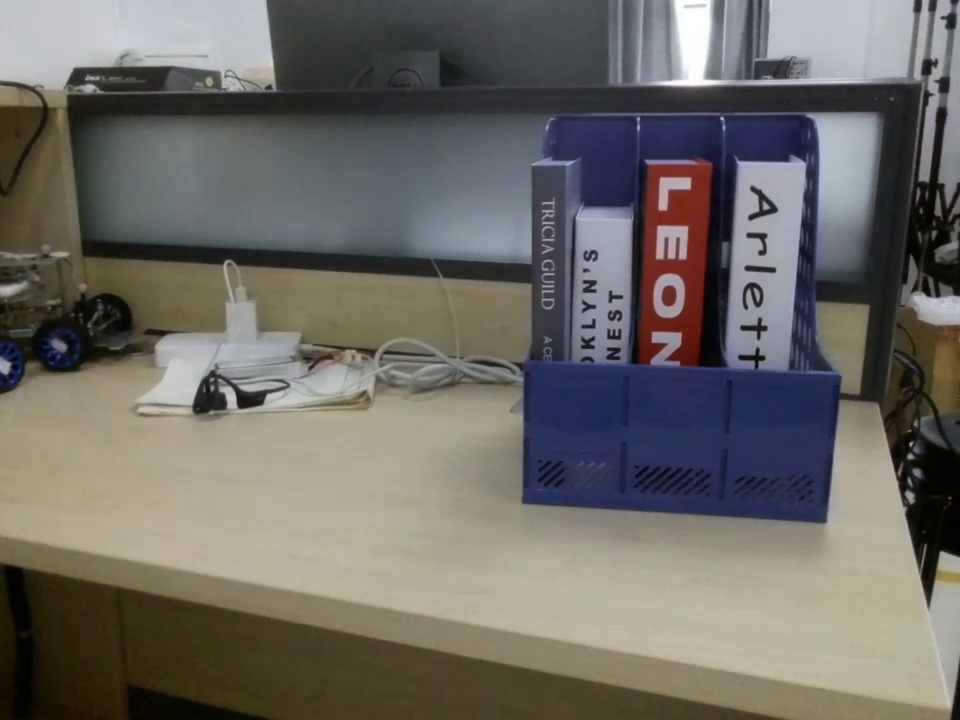files: (519, 112, 844, 525)
